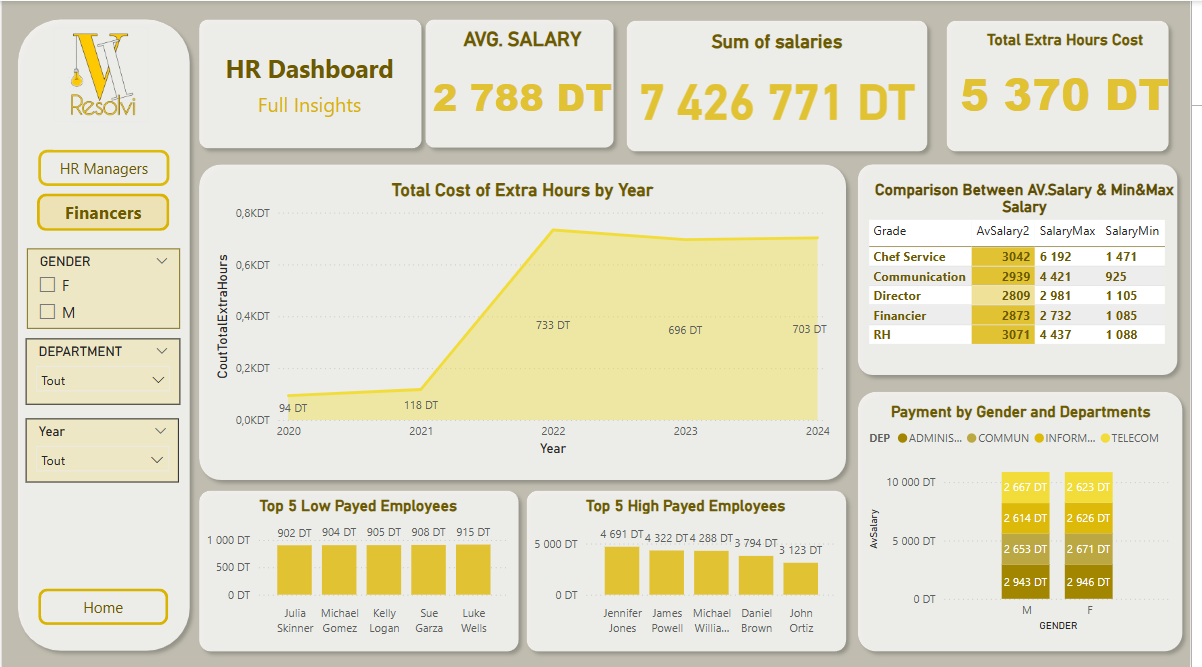

This screenshot's page, from the dashboard's own definition file:
{"tool":"powerbi","page":{"name":"Financiers","canvas":[1280,720],"ordinal":1},"visuals":[{"type":"shape","box":[7.5,10.5,203.1,698.1],"z":0},{"type":"shape","box":[203.7,10.5,257.6,156.9],"z":1000},{"type":"shape","box":[447,10.8,220.8,156.2],"z":2000},{"type":"shape","box":[663.7,12.1,341.9,158.9],"z":3000},{"type":"shape","box":[1008.3,12.1,257.1,158.9],"z":4000},{"type":"shape","box":[203,167.4,714.8,358.1],"z":5000},{"type":"shape","box":[912.6,166.9,362.1,245],"z":6000},{"type":"shape","box":[912.6,411.9,367.4,297.5],"z":7000},{"type":"card","title":"AVG. SALARY","fields":{"Values":["All Measures.AvSalary"]},"box":[457.7,28.3,206,125.2],"z":8000},{"type":"image","box":[54.9,28.8,102.9,101.5],"z":9000},{"type":"textbox","box":[215.4,49.2,231.8,51.5],"z":10000},{"type":"textbox","box":[215.4,91.3,231.8,44.5],"z":11000},{"type":"actionButton","box":[37.7,207.3,142.7,40.4],"z":12000},{"type":"actionButton","box":[39,160.2,141.3,39],"z":13000},{"type":"textbox","box":[595.5,131,4.5,35.7],"z":14000},{"type":"card","title":"Total Extra Hours Cost","fields":{"Values":["All Measures.CoutTotalExtraHours"]},"box":[1009.7,31,270.6,115.8],"z":15000},{"type":"tableEx","title":"Comparison Between AV.Salary & Min&Max Salary","fields":{"Values":["datawarehouse_rh dim_emp.Grade","All Measures.AvSalary2","FichierSalaryExterne.SalaryMax","FichierSalaryExterne.SalaryMin"]},"box":[927.6,192.5,347.3,185.8],"z":16000},{"type":"stackedAreaChart","title":"Total Cost of Extra Hours by Year","fields":{"Category":["datawarehouse_rh dim_emp.CONTRACT_END.Variation.Date Hierarchy.Year"],"Y":["All Measures.CoutTotalExtraHours"]},"box":[224.8,192.5,671.6,302.8],"z":17000},{"type":"columnChart","title":"Payment by Gender and Departments","fields":{"Category":["datawarehouse_rh dim_emp.GENDER"],"Y":["All Measures.AvSalary"],"Series":["datawarehouse_rh dim_depart.DEP"]},"box":[928.7,432.1,336.5,251.7],"z":18000},{"type":"shape","box":[555.9,518.2,362.1,191.1],"z":19000},{"type":"shape","box":[203.2,518.2,362.1,191.1],"z":20000},{"type":"clusteredColumnChart","title":"Top 5 High Payed Employees","fields":{"Category":["datawarehouse_rh dim_emp.NAME_EMP"],"Y":["All Measures.MaxSalary"]},"box":[568,533,336.5,157.5],"z":21000},{"type":"clusteredColumnChart","title":"Top 5 Low Payed Employees","fields":{"Category":["datawarehouse_rh dim_emp.NAME_EMP"],"Y":["All Measures.MINSalary"]},"box":[215.4,533,336.5,157.5],"z":22000},{"type":"actionButton","box":[39.4,633.3,140,39.4],"z":23000},{"type":"slicer","fields":{"Values":["datawarehouse_rh dim_emp.CONTRACT_START.Variation.Date Hierarchy.Year"]},"box":[25.2,450,164.9,68.5],"z":24000},{"type":"slicer","fields":{"Values":["datawarehouse_rh dim_emp.GENDER"]},"box":[26.6,266.9,164.9,86.6],"z":25000},{"type":"slicer","fields":{"Values":["datawarehouse_rh dim_depart.DEP"]},"box":[25.2,363.3,166.3,71.3],"z":26000},{"type":"card","title":"Sum of salaries","fields":{"Values":["Sum(datawarehouse_rh fact_emp_perfor.SALARY)"]},"box":[671.8,31,325.8,119.8],"z":27000}]}

Visuals, with their boxes in screenshot pixels (x1, y1, x2, y2), scaled from the page's 1280x720 canvas onto the 1202x667 screenshot:
shape: (left=7, top=10, right=198, bottom=656)
shape: (left=191, top=10, right=433, bottom=155)
shape: (left=420, top=10, right=627, bottom=155)
shape: (left=623, top=11, right=944, bottom=158)
shape: (left=947, top=11, right=1188, bottom=158)
shape: (left=191, top=155, right=862, bottom=487)
shape: (left=857, top=155, right=1197, bottom=382)
shape: (left=857, top=382, right=1201, bottom=657)
"AVG. SALARY" card: (left=430, top=26, right=623, bottom=142)
image: (left=52, top=27, right=148, bottom=121)
textbox: (left=202, top=46, right=420, bottom=93)
textbox: (left=202, top=85, right=420, bottom=126)
actionButton: (left=35, top=192, right=169, bottom=229)
actionButton: (left=37, top=148, right=169, bottom=185)
textbox: (left=559, top=121, right=563, bottom=154)
"Total Extra Hours Cost" card: (left=948, top=29, right=1201, bottom=136)
"Comparison Between AV.Salary & Min&Max Salary" tableEx: (left=871, top=178, right=1197, bottom=350)
"Total Cost of Extra Hours by Year" stackedAreaChart: (left=211, top=178, right=842, bottom=459)
"Payment by Gender and Departments" columnChart: (left=872, top=400, right=1188, bottom=633)
shape: (left=522, top=480, right=862, bottom=657)
shape: (left=191, top=480, right=531, bottom=657)
"Top 5 High Payed Employees" clusteredColumnChart: (left=533, top=494, right=849, bottom=640)
"Top 5 Low Payed Employees" clusteredColumnChart: (left=202, top=494, right=518, bottom=640)
actionButton: (left=37, top=587, right=168, bottom=623)
slicer - datawarehouse_rh dim_emp.CONTRACT_START.Variation.Date Hierarchy.Year: (left=24, top=417, right=179, bottom=480)
slicer - datawarehouse_rh dim_emp.GENDER: (left=25, top=247, right=180, bottom=327)
slicer - datawarehouse_rh dim_depart.DEP: (left=24, top=337, right=180, bottom=403)
"Sum of salaries" card: (left=631, top=29, right=937, bottom=140)
